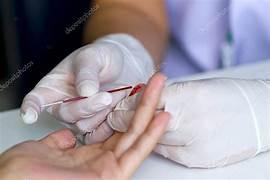Glove: (21, 34, 153, 142), (155, 78, 269, 167)
